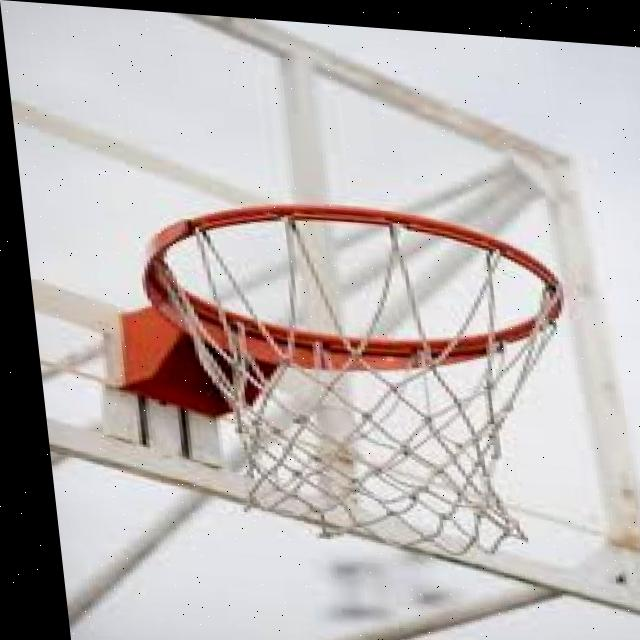hoop: (111, 184, 611, 577)
